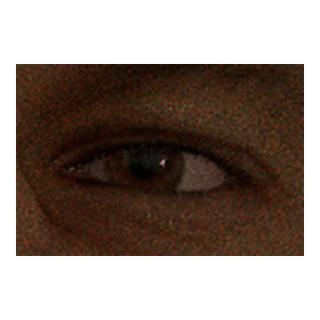pupil: (131, 151, 157, 178)
